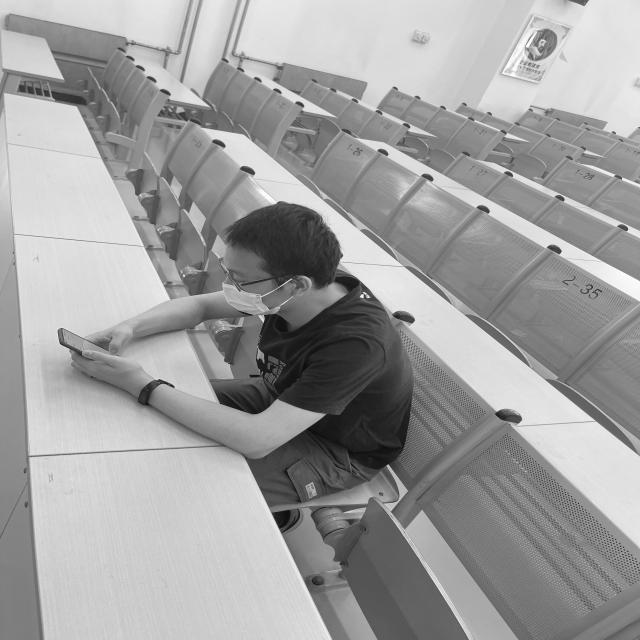phone: (58, 205, 413, 460)
